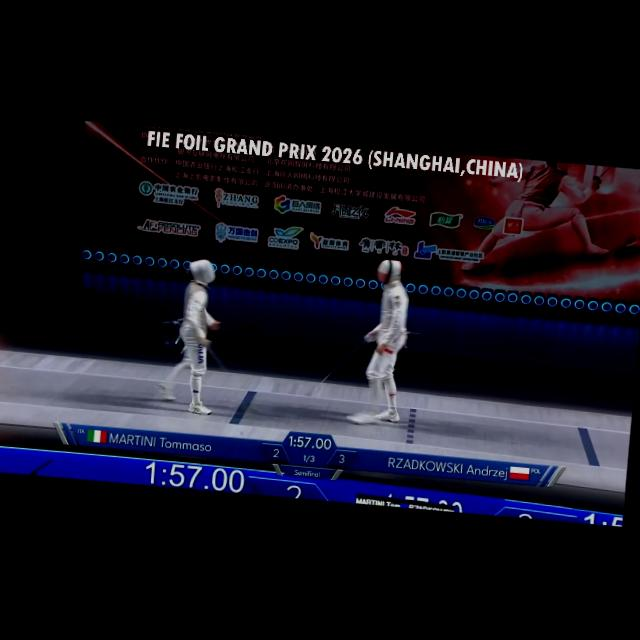blade: (192, 338, 263, 424), (306, 327, 378, 408)
